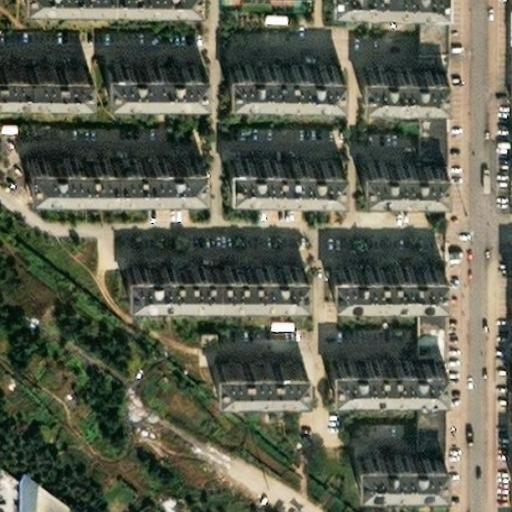building: (115, 251, 296, 282), (16, 148, 193, 177), (219, 53, 333, 84), (218, 148, 332, 179), (323, 256, 433, 288), (320, 351, 434, 380), (7, 466, 77, 512), (96, 53, 195, 83), (345, 445, 435, 476), (202, 354, 294, 384), (350, 148, 434, 179), (348, 53, 433, 82), (0, 55, 80, 81), (406, 82, 434, 148), (407, 380, 434, 437), (406, 288, 433, 342), (497, 0, 512, 95), (407, 0, 433, 53), (501, 373, 512, 438)
